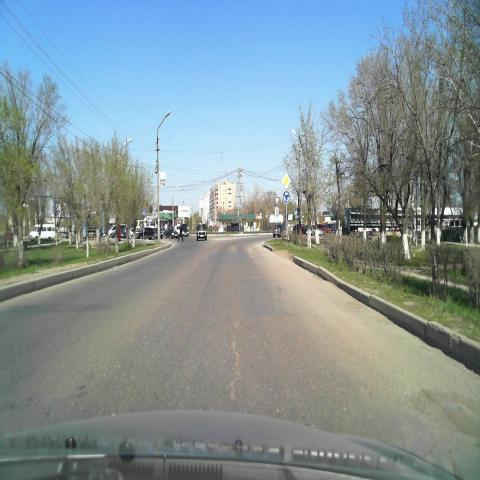4_3: (282, 190, 290, 204)
